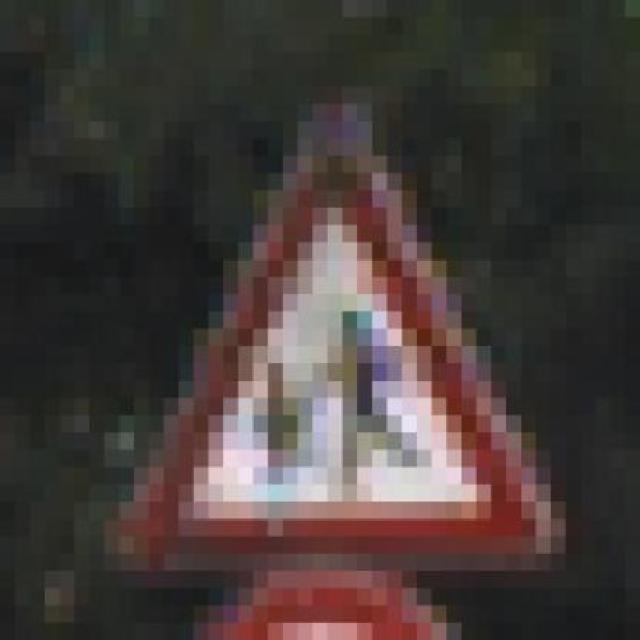Beware of children: (120, 69, 566, 588)
